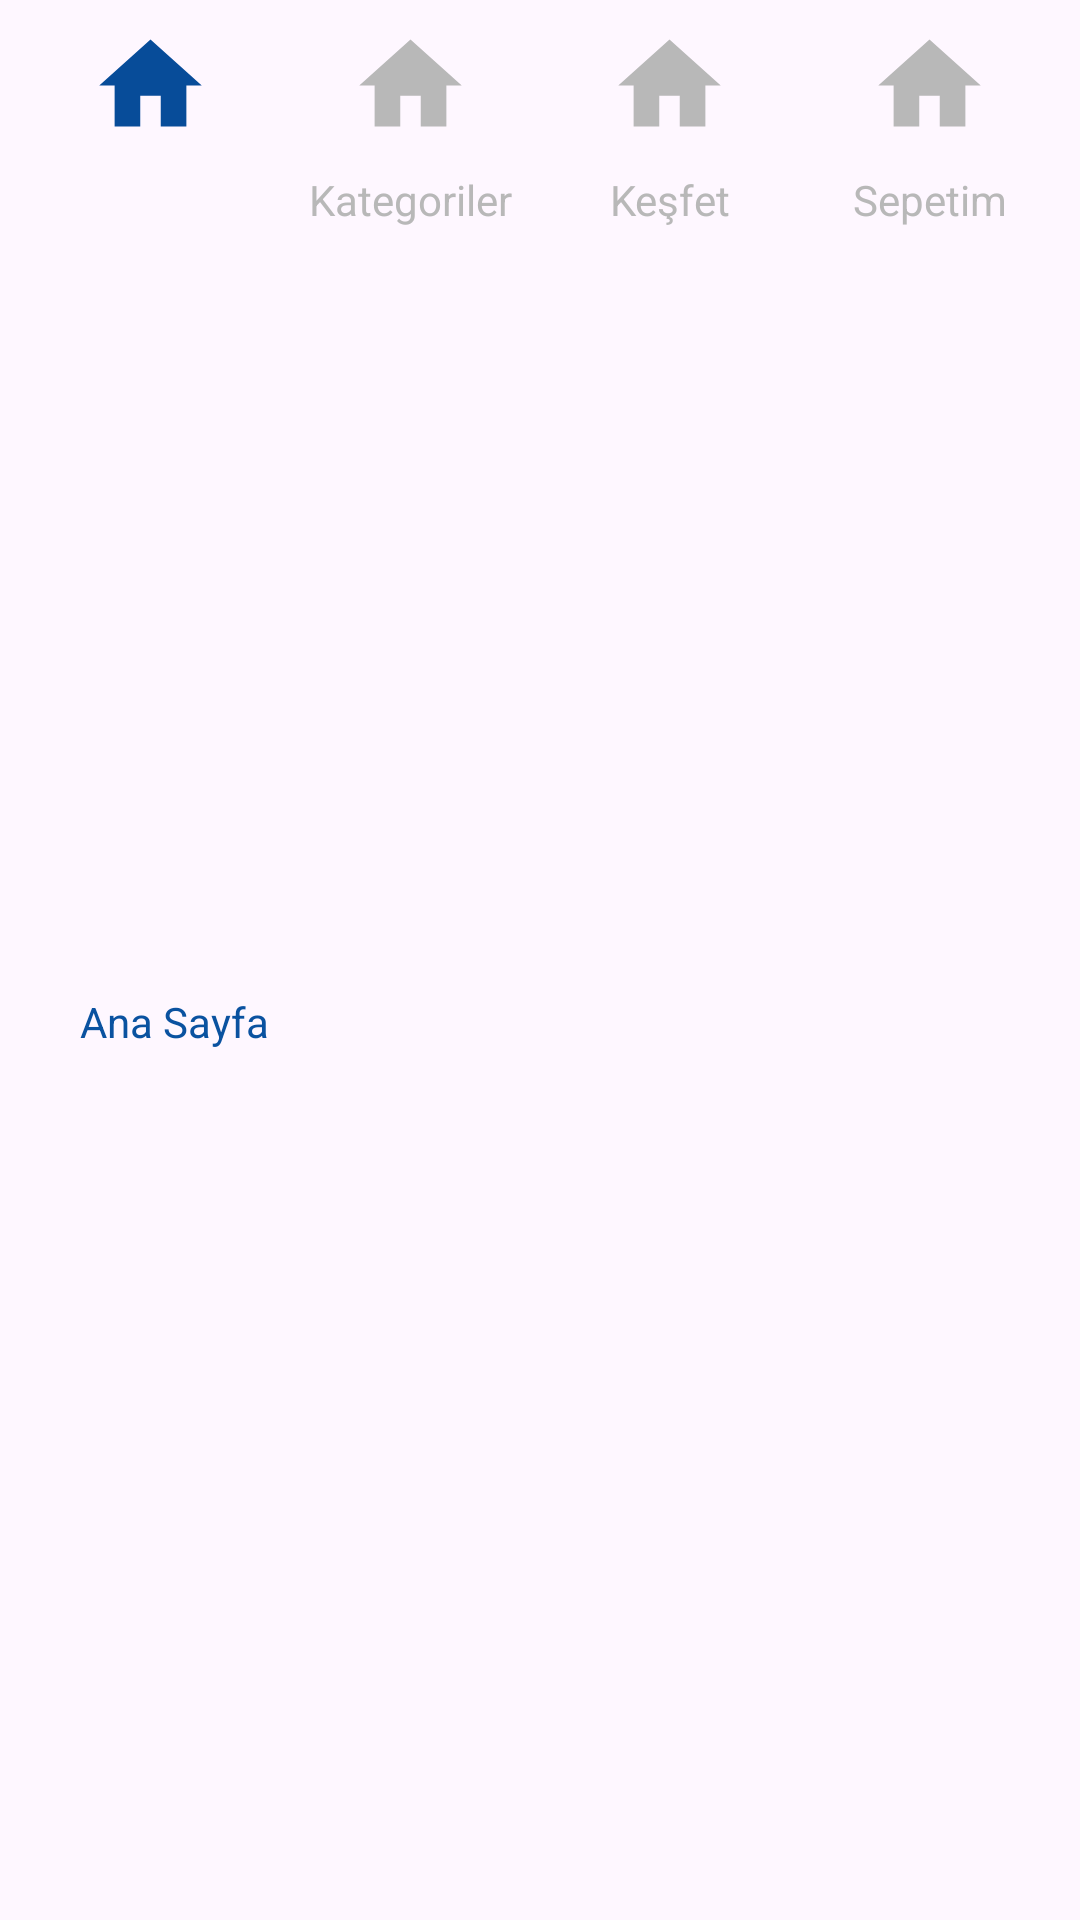

Where to tap for icons on this 1080w x 1920h app screen, as (x=x, y=y):
home: (x=150, y=83)
